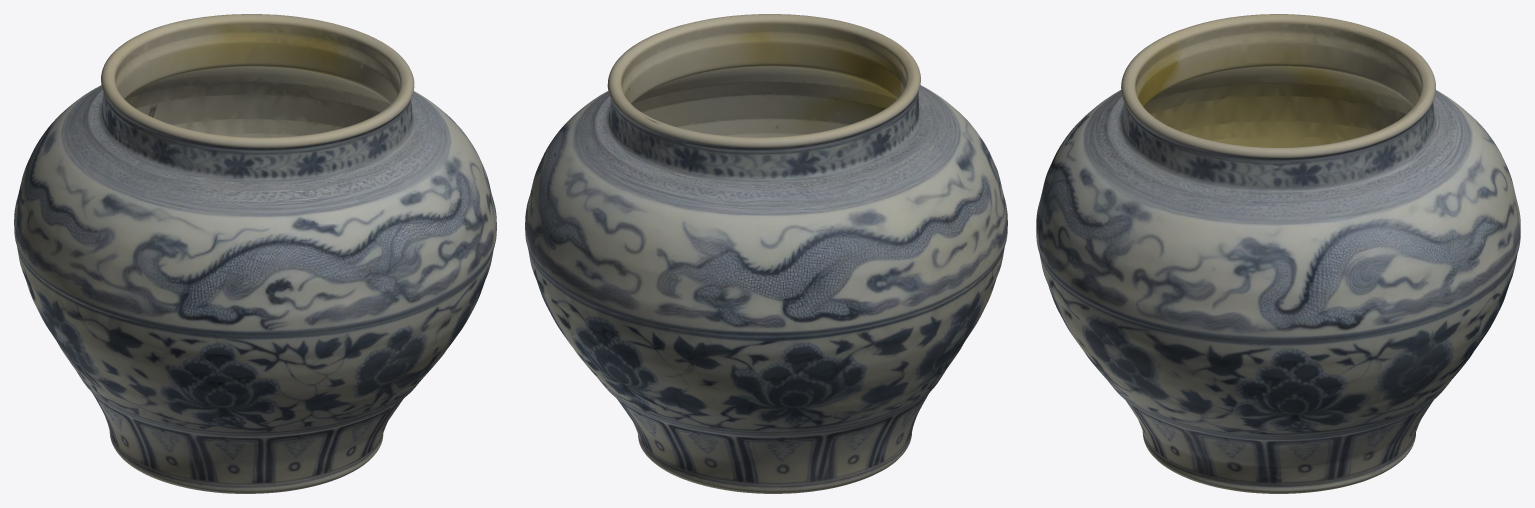
Rendered from jiangjun.glb.
3 views of the same model, side by side, from view 1: azimuth 30°, elevation 25°; view 2: azimuth 150°, elevation 25°; view 3: azimuth 270°, elevation 25° (orthographic).
Parts seen in each view (by area): view 1: node_0; view 2: node_0; view 3: node_0.
Part boxes in pixels (bbox=[...]): node_0: bbox=[14, 14, 496, 493]; node_0: bbox=[525, 14, 1007, 493]; node_0: bbox=[1036, 14, 1520, 493].
Bounding box in the file's own units: 1.15 × 0.9625 × 1.15.
1 material, 1 textured.
